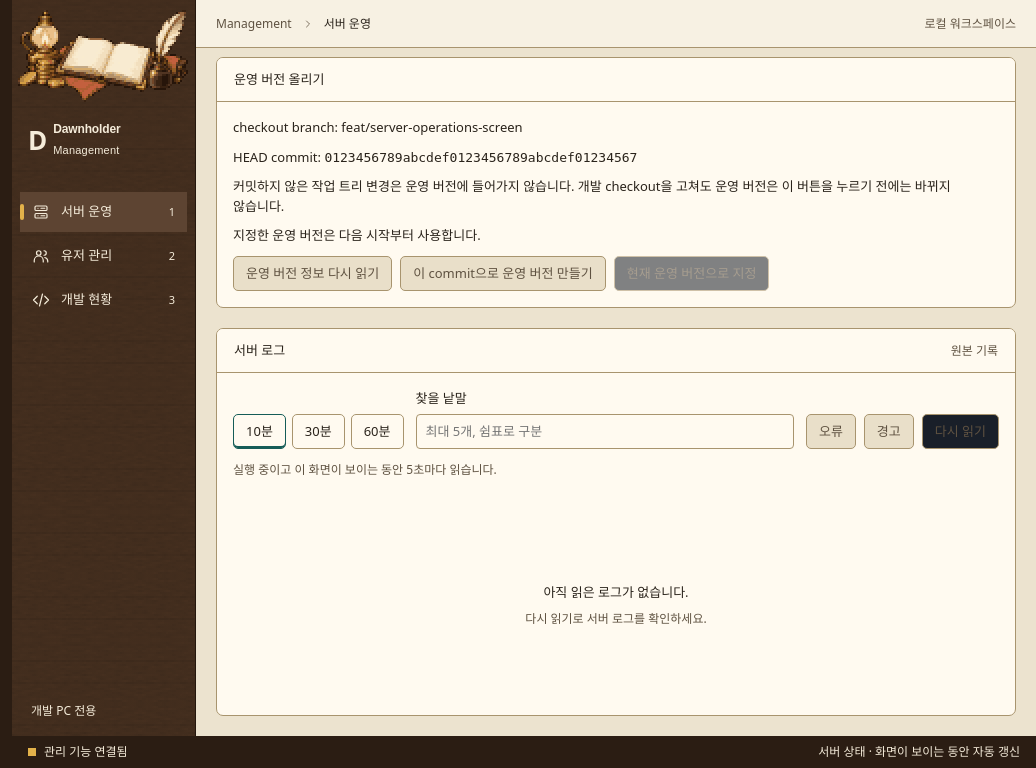
Test: S10 server log › S10 shows each line under 수집 시각 in local time, with its stream and its text
(page scrolled)
Click the button "다시 읽기".
click(960, 432)  # box top-left (922, 414), bottom-right (999, 449)
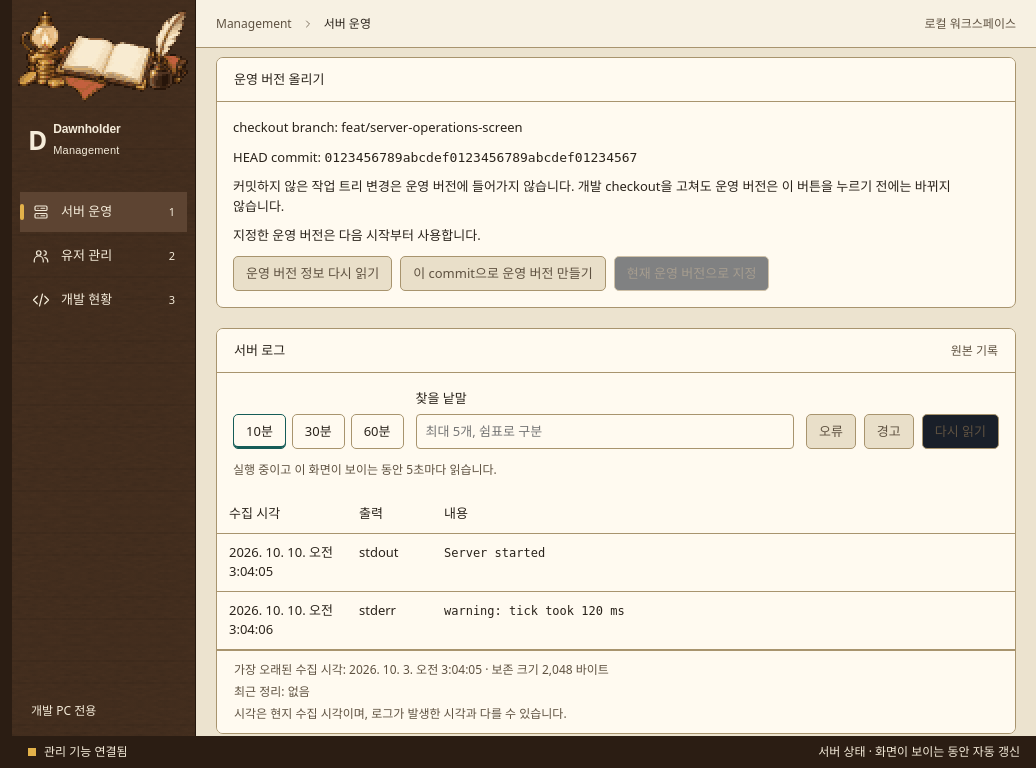
expect the column heading "수집 시각" is shown: met, box top-left (217, 495), bottom-right (347, 533)
